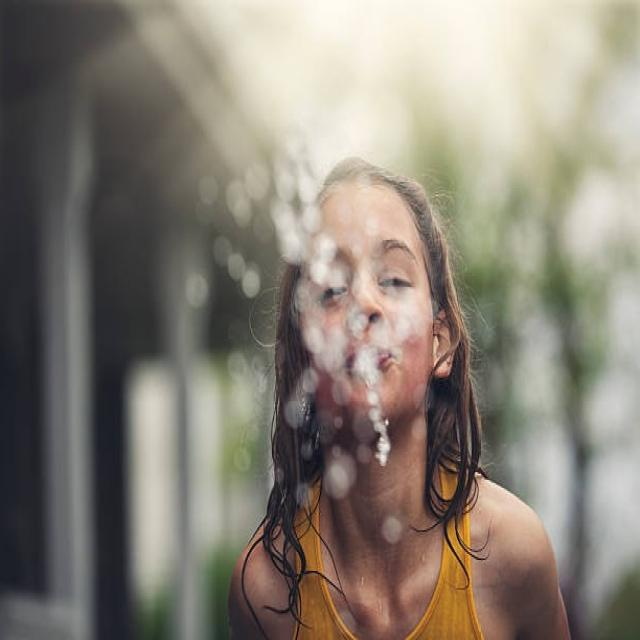Spitting: (265, 145, 472, 556)
